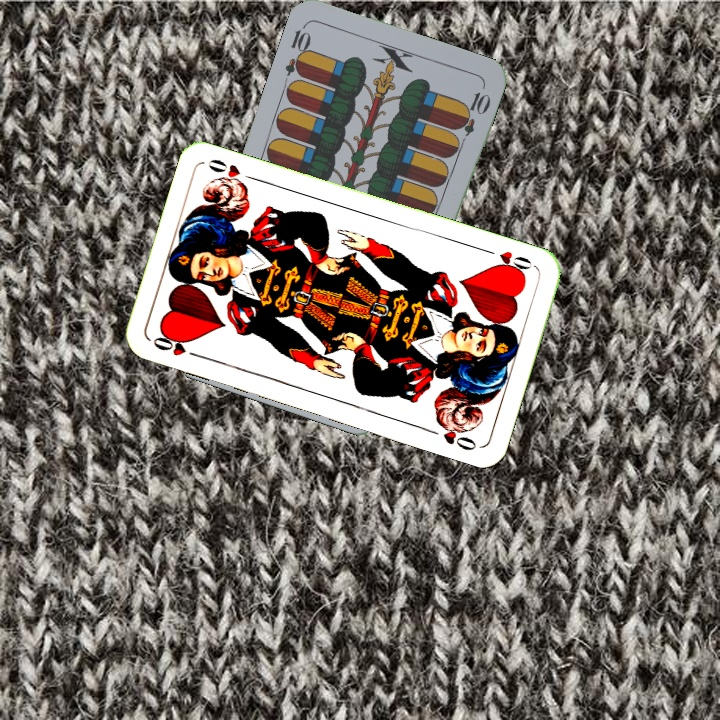E10: (281, 20, 314, 79)
HO: (480, 245, 538, 278), (149, 330, 205, 361)
